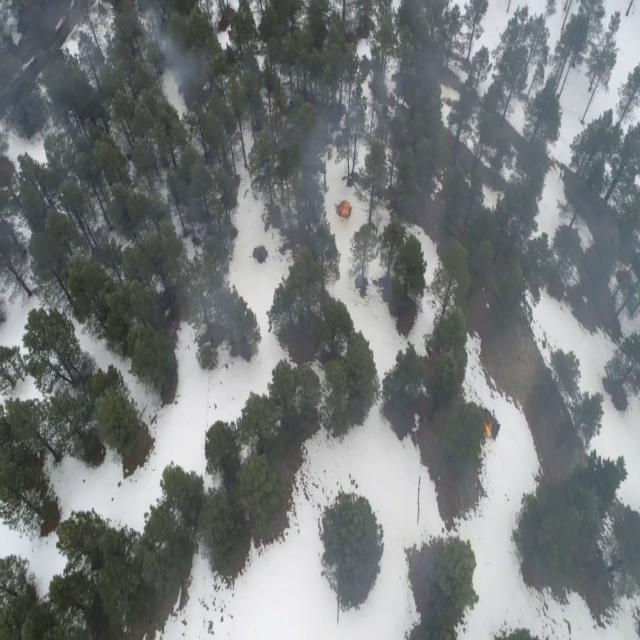Fire: (332, 199, 355, 224)
